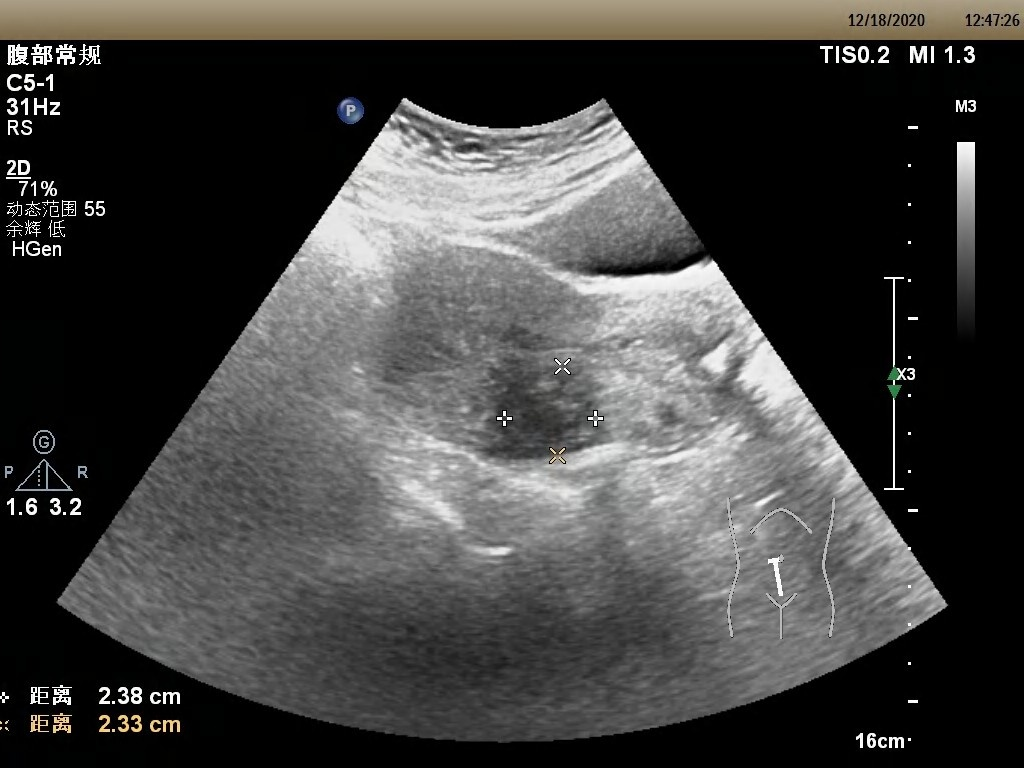肌瘤: (498, 371, 596, 453)
